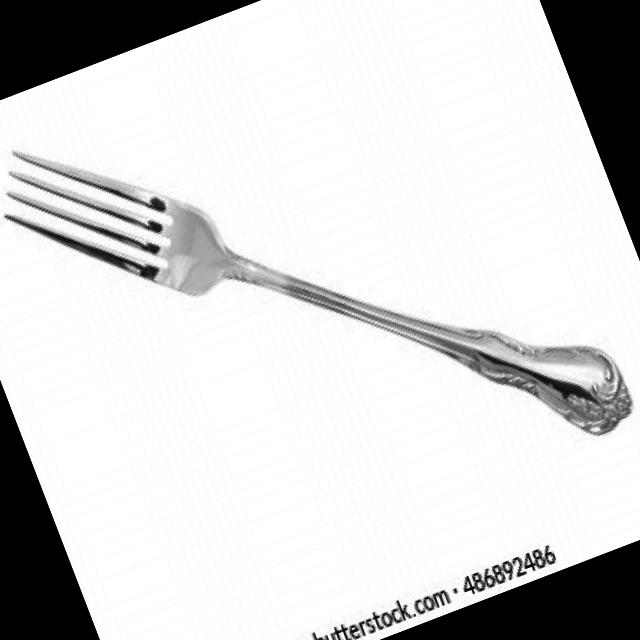fork: (0, 0, 640, 614)
